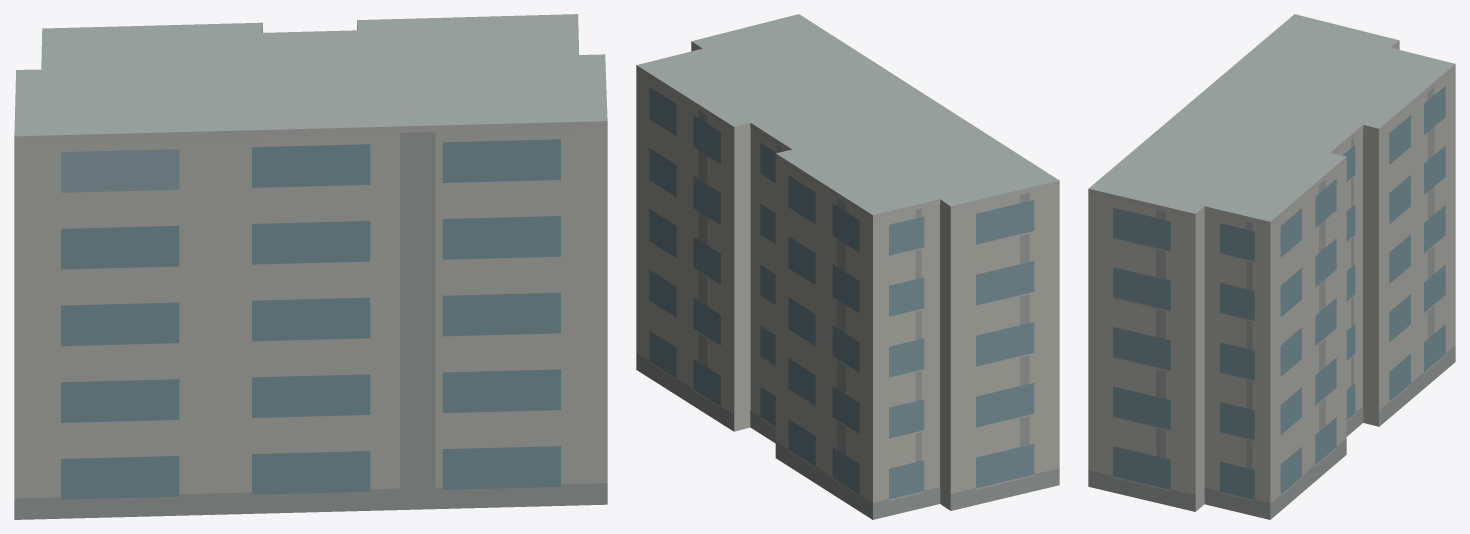
File: survey-upis-32958378.glb
3 renders of one model, left to right at view 1: azimuth 30°, elevation 25°; view 2: azimuth 150°, elevation 25°; view 3: azimuth 270°, elevation 25°, orthographic. The views are drawn at different scales.
Visible parts, largest first — view 1: survey-upis-32958378.tmp; view 2: survey-upis-32958378.tmp; view 3: survey-upis-32958378.tmp.
Part boxes in pixels (left/top/right/bottom): survey-upis-32958378.tmp: left=14, top=14, right=607, bottom=519; survey-upis-32958378.tmp: left=636, top=14, right=1059, bottom=519; survey-upis-32958378.tmp: left=1088, top=14, right=1455, bottom=519.
Size of the model in its own units: 21.4 by 14.3 by 15.98.
